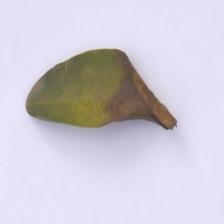black spot: (103, 44, 176, 142)
